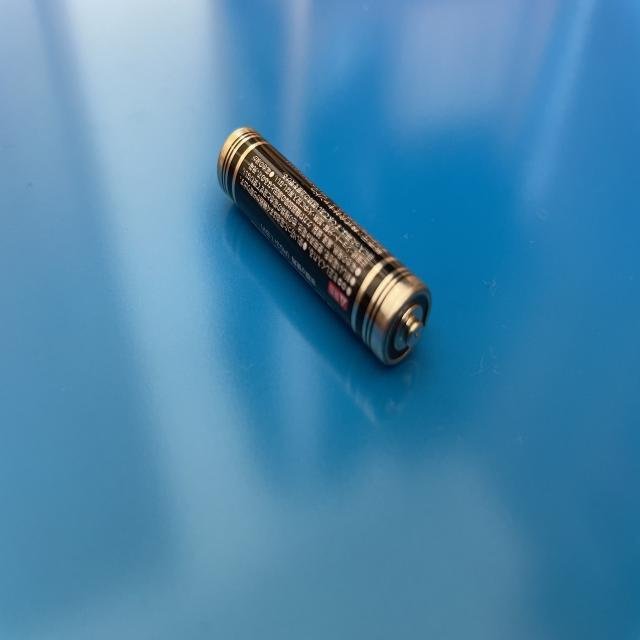hazardous waste: (216, 124, 433, 372)
